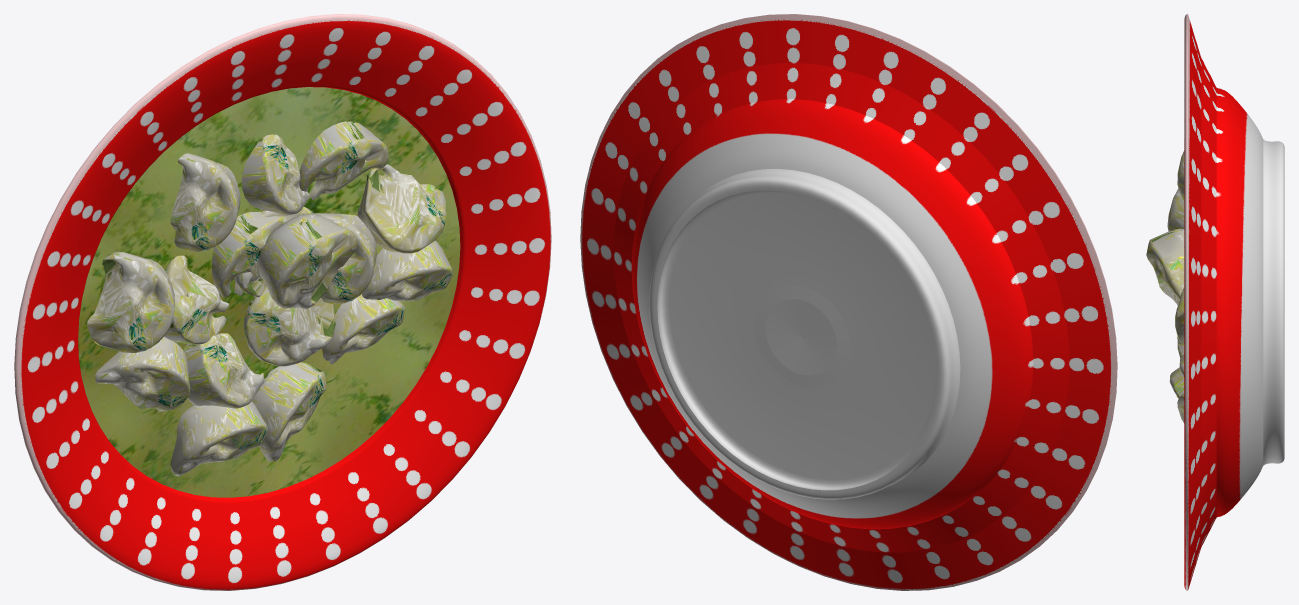
The model's file is Plate.obj.
The picture shows the model from 3 angles, left to right: view 1: azimuth 30°, elevation 25°; view 2: azimuth 150°, elevation 25°; view 3: azimuth 270°, elevation 25°; orthographic projection. The views are drawn at different scales.
Parts seen in each view (by area): view 1: tarelka03, bulion03, pelmen61, pelmen59, pelmen68, pelmen55, pelmen53, pelmen66, pelmen64, pelmen63, pelmen52, pelmen67 (+7 smaller); view 2: tarelka03; view 3: tarelka03, pelmen59, pelmen61, pelmen68, pelmen66, pelmen55.
Boxes of the visible parts, <box> form: tarelka03: <box>14,14,551,590</box>; bulion03: <box>78,87,460,497</box>; pelmen61: <box>87,251,174,352</box>; pelmen59: <box>258,213,357,309</box>; pelmen68: <box>357,164,446,253</box>; pelmen55: <box>170,153,240,251</box>; pelmen53: <box>244,286,335,366</box>; pelmen66: <box>170,401,267,476</box>; pelmen64: <box>95,337,190,411</box>; pelmen63: <box>299,121,388,200</box>; pelmen52: <box>252,362,326,461</box>; pelmen67: <box>183,333,264,408</box>; tarelka03: <box>580,14,1117,590</box>; tarelka03: <box>1184,14,1284,590</box>; pelmen59: <box>1146,228,1184,306</box>; pelmen61: <box>1167,188,1184,231</box>; pelmen68: <box>1175,297,1184,344</box>; pelmen66: <box>1169,367,1184,398</box>; pelmen55: <box>1177,151,1184,200</box>.
Bounding box in the file's own units: 20.29 × 20.29 × 4.86.
